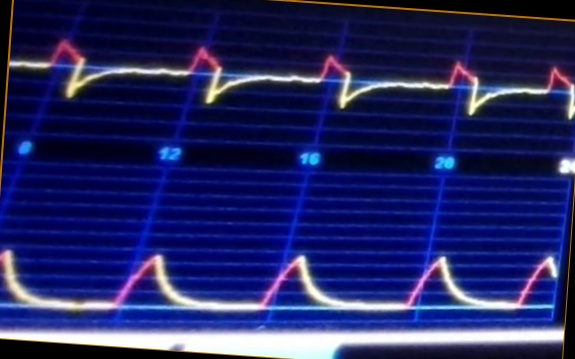Accumulation Flow: (13, 29, 575, 140)
Volume: (1, 222, 556, 319)
